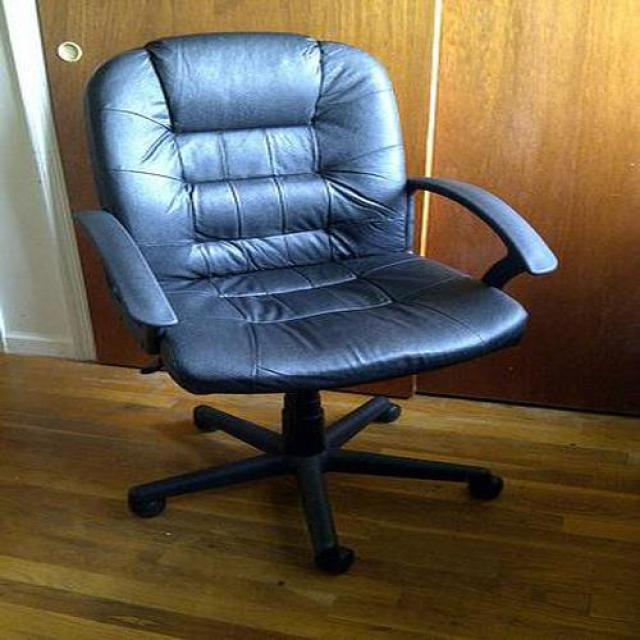swivelchair: (73, 32, 559, 579)
